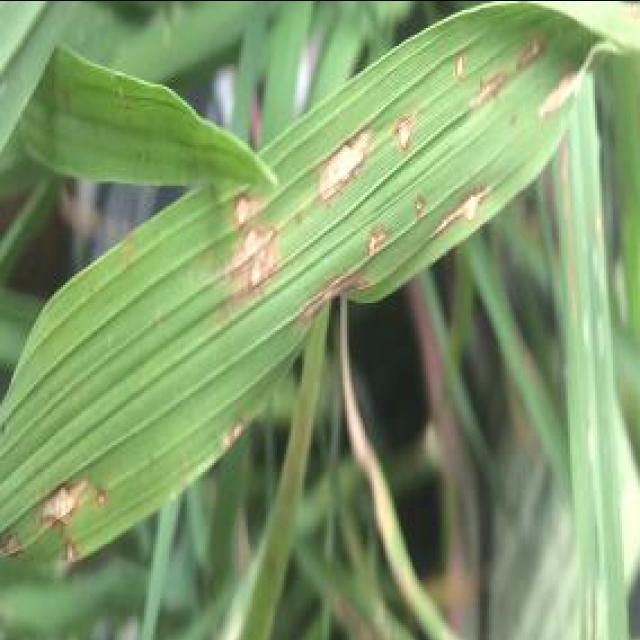Leaf_Blast: (311, 104, 390, 198), (428, 164, 509, 238), (38, 466, 117, 532), (376, 94, 439, 160), (541, 50, 595, 126), (354, 198, 417, 256), (469, 61, 525, 115), (396, 167, 448, 225), (212, 180, 275, 220), (236, 250, 286, 300), (442, 39, 484, 94), (516, 30, 561, 74), (236, 218, 282, 256)
